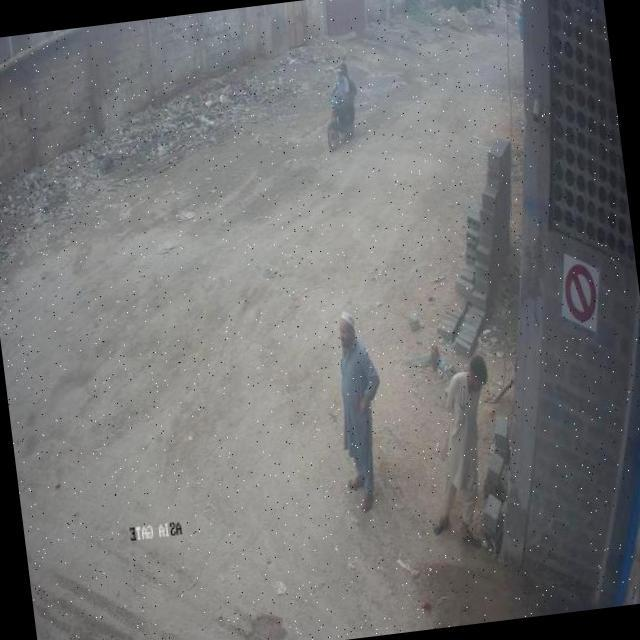person: (320, 304, 394, 516), (318, 55, 362, 135)
